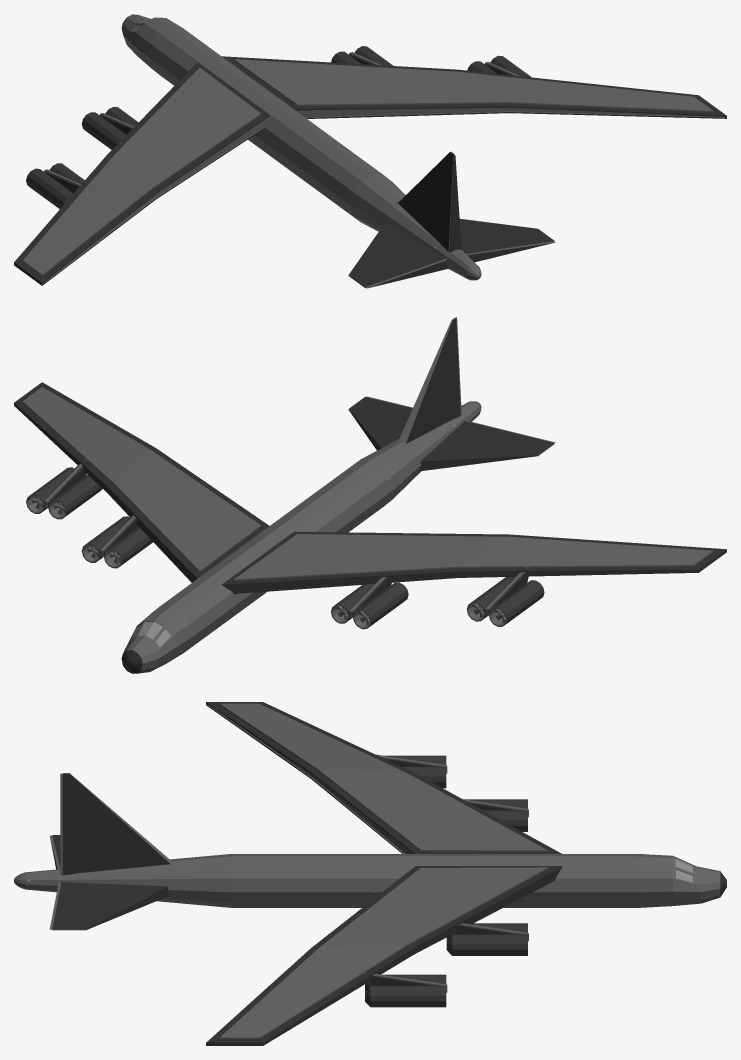
Rendered from EnemyBomber.fbx.
3 views of the same model, one above another, from view 1: azimuth 30°, elevation 25°; view 2: azimuth 150°, elevation 25°; view 3: azimuth 270°, elevation 25° (orthographic).
Parts seen in each view (by area): view 1: Cube.001; view 2: Cube.001; view 3: Cube.001.
Boxes of the visible parts, left/top/right/bottom form: Cube.001: left=14, top=14, right=726, bottom=288; Cube.001: left=14, top=317, right=726, bottom=673; Cube.001: left=14, top=702, right=726, bottom=1045.
Size of the model in its own units: 5956 by 1074 by 5269.
1 material, 1 textured.
